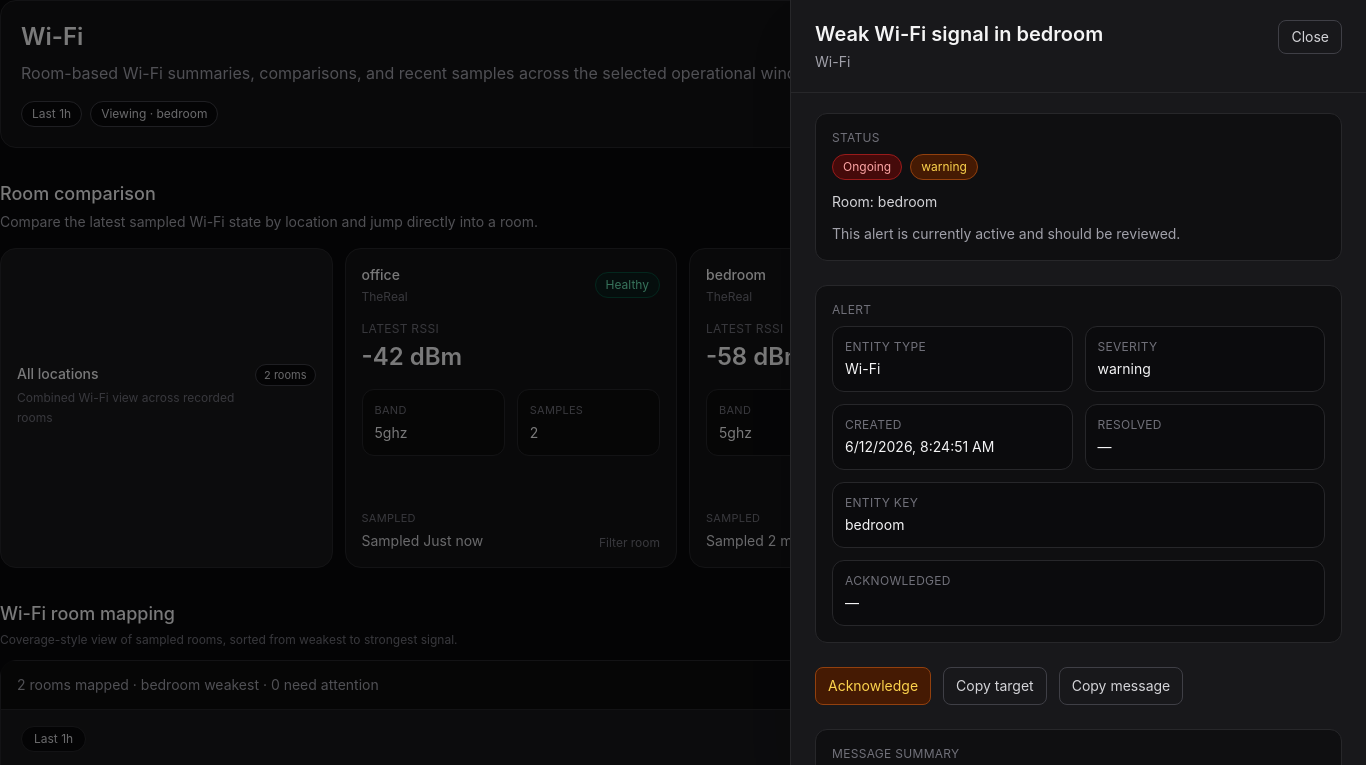
Test: WifiPage › clears alert query state when the active drawer closes
This screenshot has width=1366, height=765.
Click the button "Close": (1310, 37) [1278,20,1342,54]
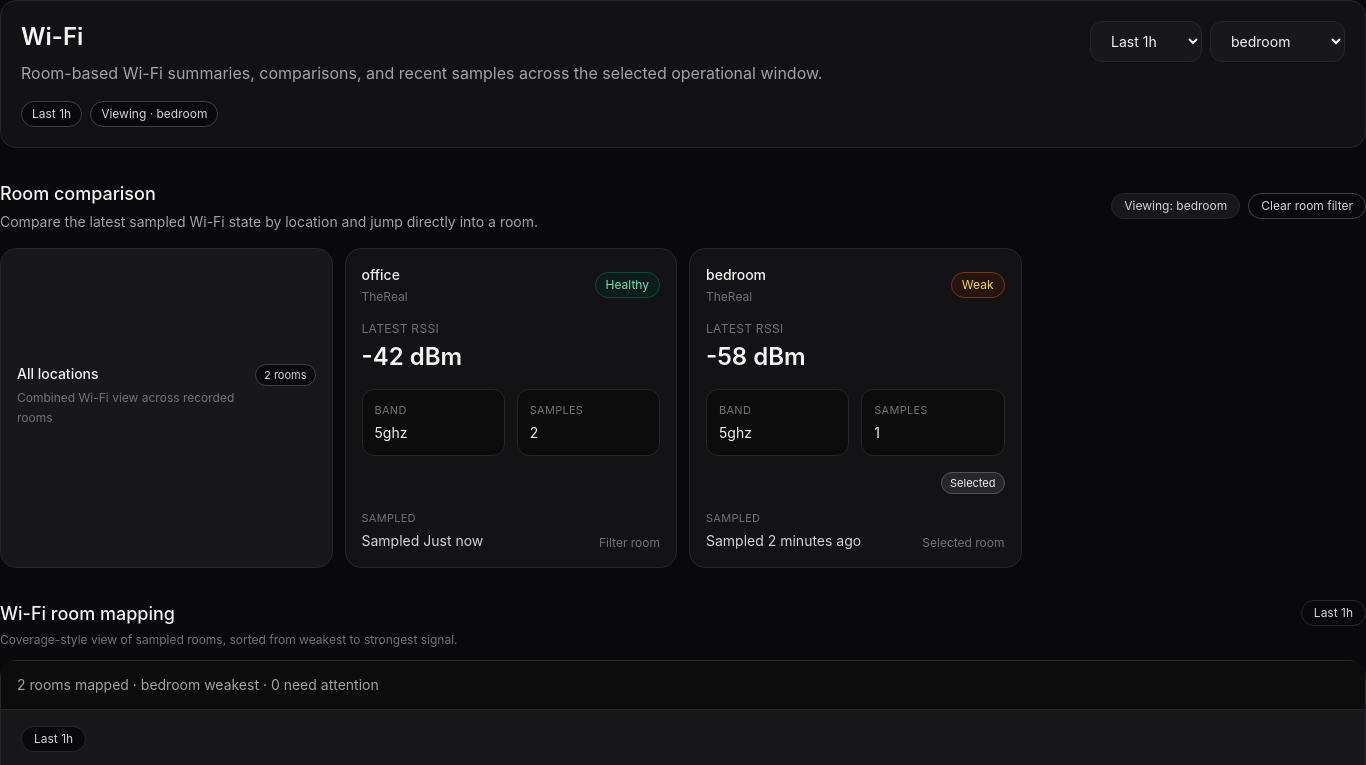
Result: the button "Acknowledge" is gone
